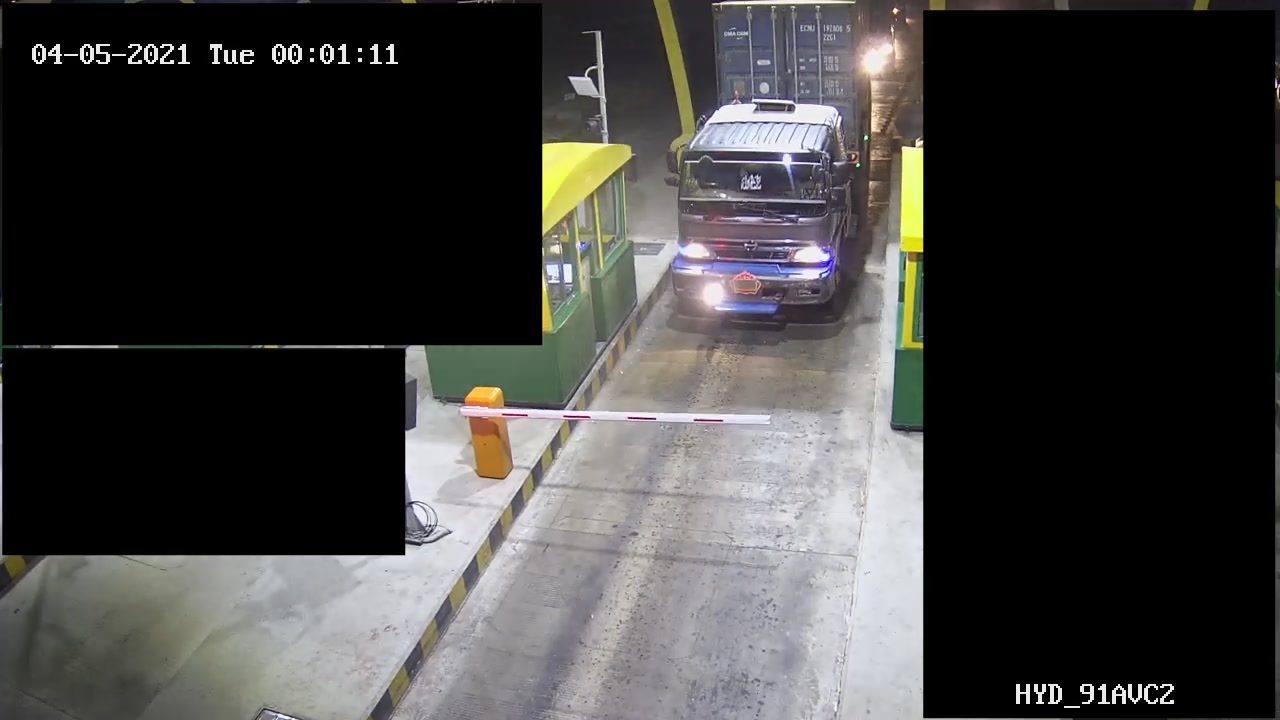F6: (673, 1, 872, 332)
